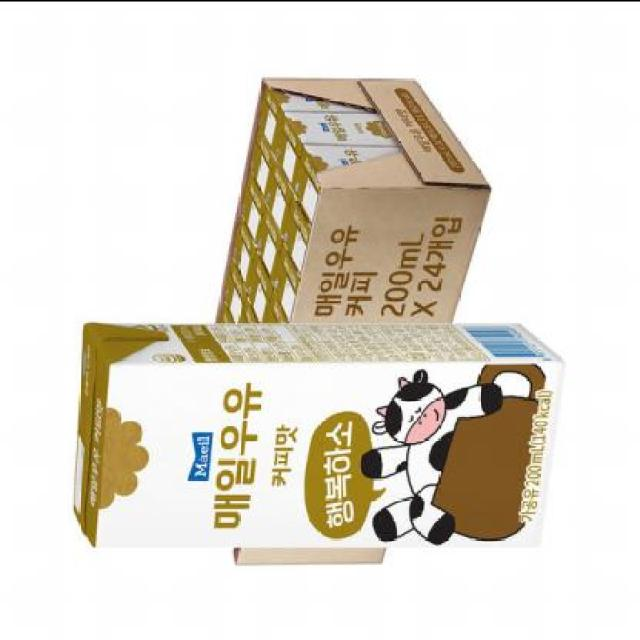tetra: (43, 278, 585, 602)
